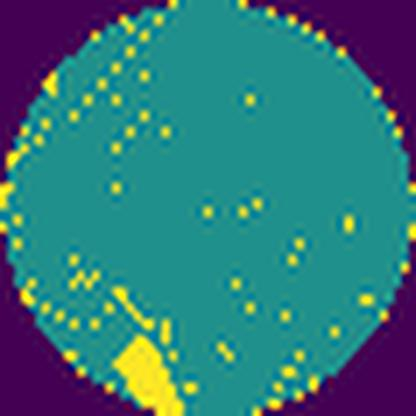Loc: (114, 331, 186, 416)
